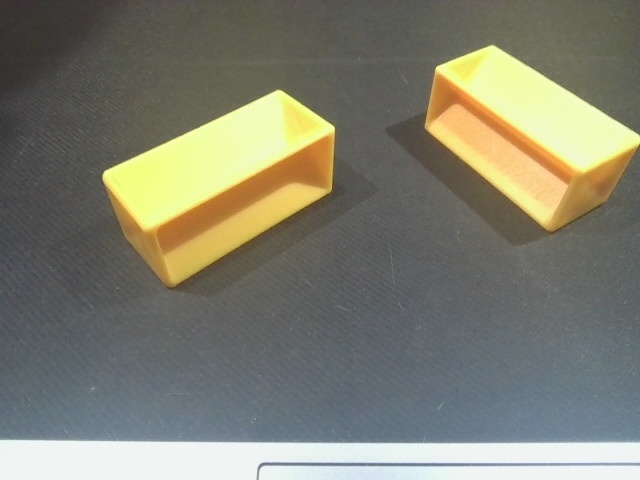YellowSample: (98, 86, 338, 290), (417, 41, 640, 236)
